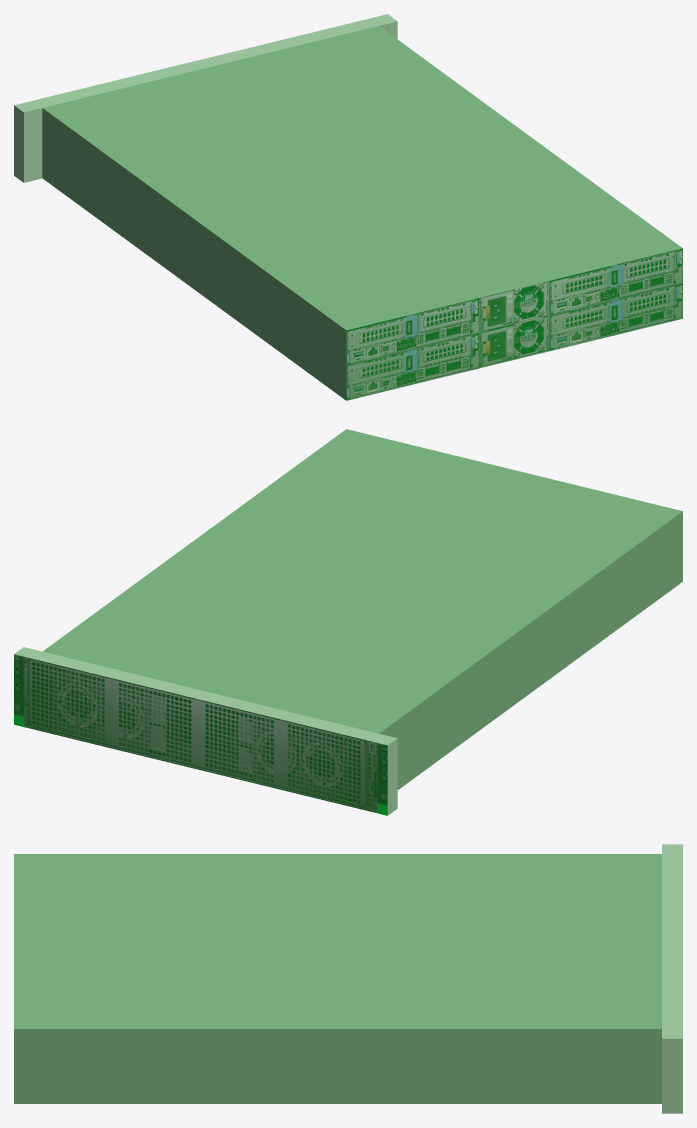
3 renders of one model, top to bottom at view 1: azimuth 30°, elevation 25°; view 2: azimuth 150°, elevation 25°; view 3: azimuth 270°, elevation 25°, orthographic. The views are drawn at different scales.
Parts seen in each view (by area): view 1: Chassis_Cube; view 2: Chassis_Cube; view 3: Chassis_Cube.
Part boxes in pixels (box(x1,y1,x2,y2)): Chassis_Cube: box(14, 14, 682, 400); Chassis_Cube: box(14, 429, 682, 815); Chassis_Cube: box(14, 844, 682, 1113).
Size of the model in its own units: 0.6426 by 0.1157 by 0.9344.
